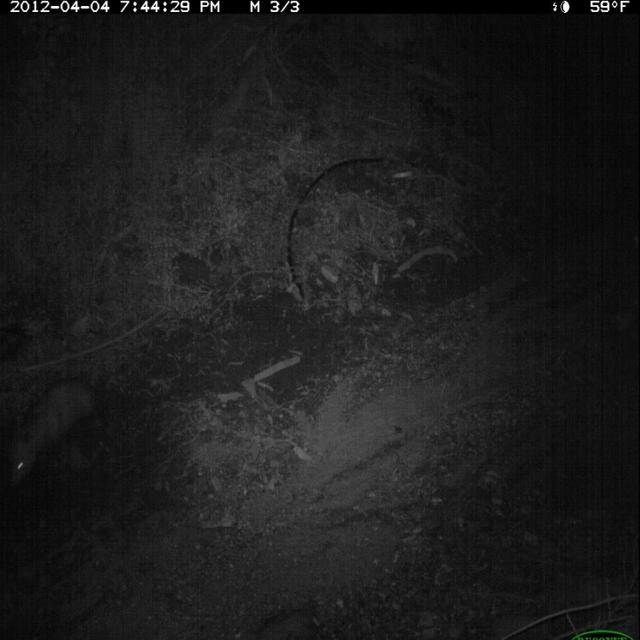opossum: (3, 372, 112, 493)
